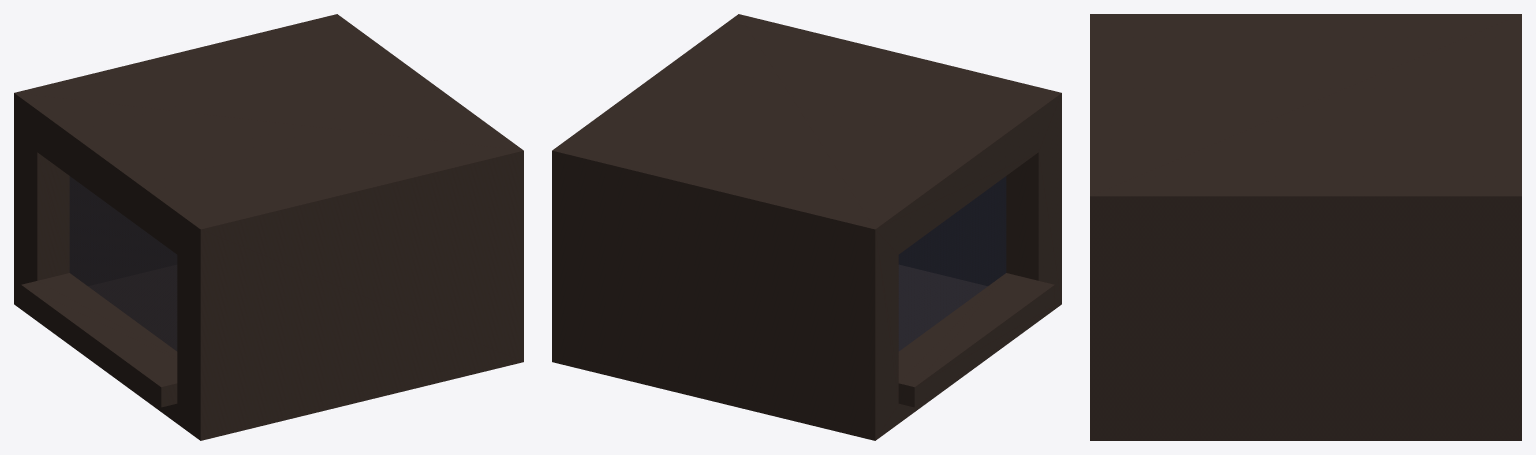
Rendered from modularBuildings_041.obj.
3 renders of one model, left to right at view 1: azimuth 30°, elevation 25°; view 2: azimuth 150°, elevation 25°; view 3: azimuth 270°, elevation 25°, orthographic. The views are drawn at different scales.
Parts seen in each view (by area): view 1: Mesh1 Group1 Model; view 2: Mesh1 Group1 Model; view 3: Mesh1 Group1 Model.
Part boxes in pixels (x1=…): Mesh1 Group1 Model: x1=14, y1=14, x2=523, y2=440; Mesh1 Group1 Model: x1=552, y1=14, x2=1061, y2=440; Mesh1 Group1 Model: x1=1090, y1=14, x2=1521, y2=440.
Size of the model in its own units: 1.05 by 0.625 by 1.
Materials: 2 (2 with a texture image).
